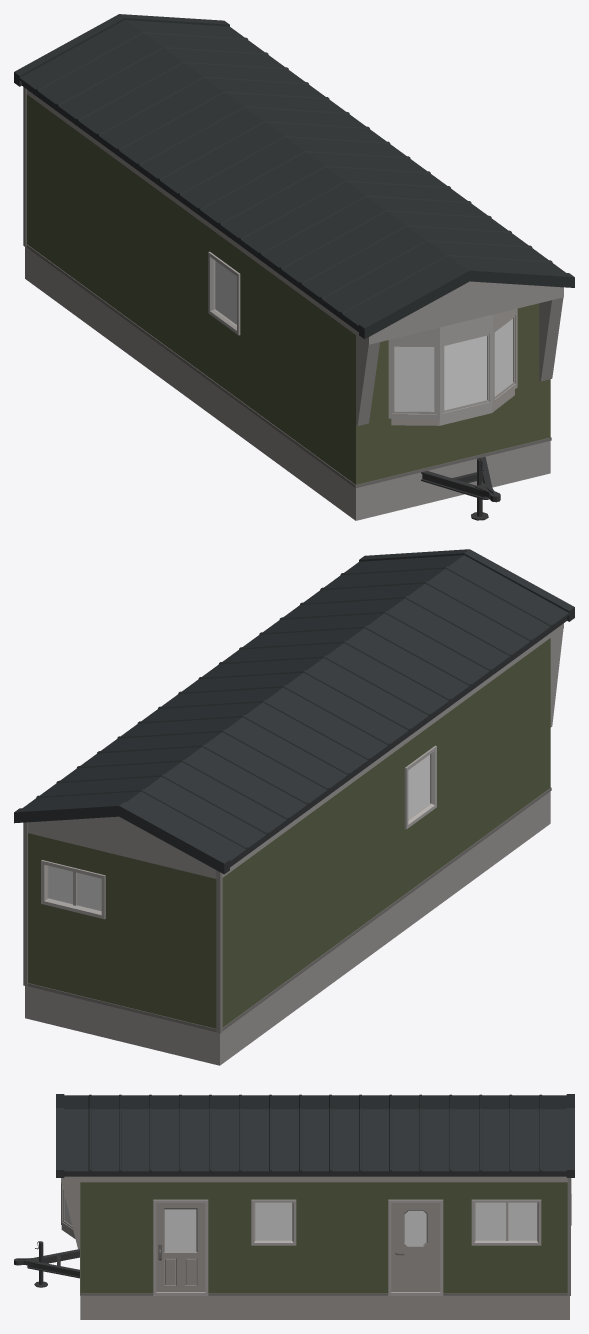
File: SM_Bldg_Desert_MobileHome_01.fbx
3 views of the same model, one above another, from view 1: azimuth 30°, elevation 25°; view 2: azimuth 150°, elevation 25°; view 3: azimuth 270°, elevation 25° (orthographic). The views are drawn at different scales.
Visible parts, largest first — view 1: SM_Bldg_Desert_MobileHome_01, SM_Bldg_Desert_MobileHome_01_Guard, SM_Bldg_Desert_MobileHome_01_Glass; view 2: SM_Bldg_Desert_MobileHome_01, SM_Bldg_Desert_MobileHome_01_Guard, SM_Bldg_Desert_MobileHome_01_Glass; view 3: SM_Bldg_Desert_MobileHome_01, SM_Bldg_Desert_MobileHome_01_Guard, SM_Bldg_Desert_MobileHome_01_Glass.
Part boxes in pixels (bbox=[...]): SM_Bldg_Desert_MobileHome_01: bbox=[14, 14, 574, 520]; SM_Bldg_Desert_MobileHome_01_Guard: bbox=[25, 247, 550, 520]; SM_Bldg_Desert_MobileHome_01_Glass: bbox=[215, 261, 512, 411]; SM_Bldg_Desert_MobileHome_01: bbox=[14, 549, 574, 1033]; SM_Bldg_Desert_MobileHome_01_Guard: bbox=[25, 791, 550, 1065]; SM_Bldg_Desert_MobileHome_01_Glass: bbox=[48, 755, 429, 911]; SM_Bldg_Desert_MobileHome_01: bbox=[14, 1094, 574, 1295]; SM_Bldg_Desert_MobileHome_01_Guard: bbox=[80, 1295, 569, 1319]; SM_Bldg_Desert_MobileHome_01_Glass: bbox=[64, 1195, 537, 1240].
Bounding box in the file's own units: 3.67 × 4 × 11.46.
